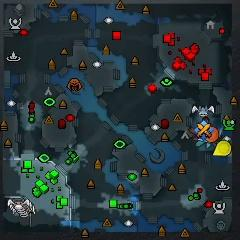Other: (194, 120, 213, 140)
p4: (213, 140, 232, 157)
p5: (207, 127, 218, 142)
x3: (195, 139, 211, 148)
x5: (189, 125, 195, 135)
